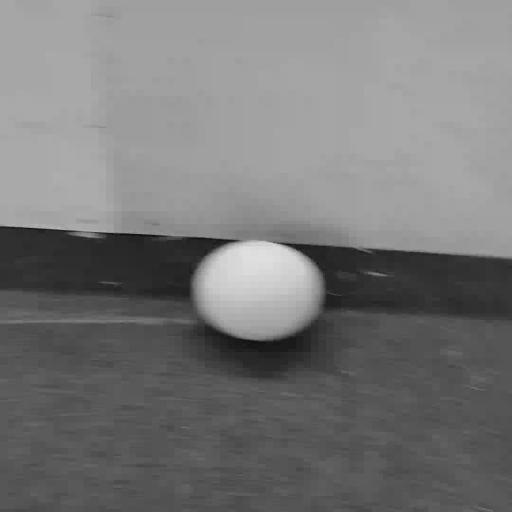fuel: (192, 241, 325, 341)
